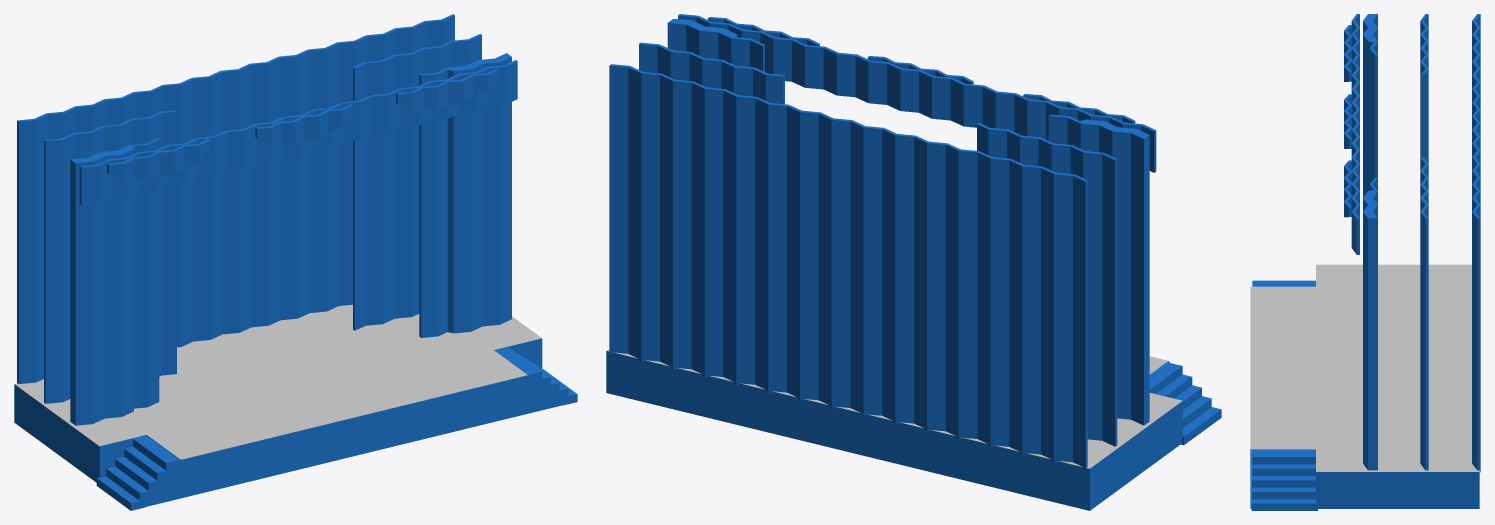
File: SM_stage.fbx
3 renders of one model, left to right at view 1: azimuth 30°, elevation 25°; view 2: azimuth 150°, elevation 25°; view 3: azimuth 270°, elevation 25°, orthographic. The views are drawn at different scales.
Parts seen in each view (by area): view 1: Cube_62, Cube_50; view 2: Cube_62, Cube_50; view 3: Cube_50, Cube_62.
Part boxes in pixels (box(x1,y1,x2,y2)): Cube_62: box(17, 14, 517, 425); Cube_50: box(14, 304, 577, 510); Cube_62: box(609, 14, 1156, 470); Cube_50: box(606, 349, 1221, 510); Cube_50: box(1250, 264, 1479, 510); Cube_62: box(1344, 14, 1480, 472).
Bounding box in the file's own units: 908 × 587 × 422.
